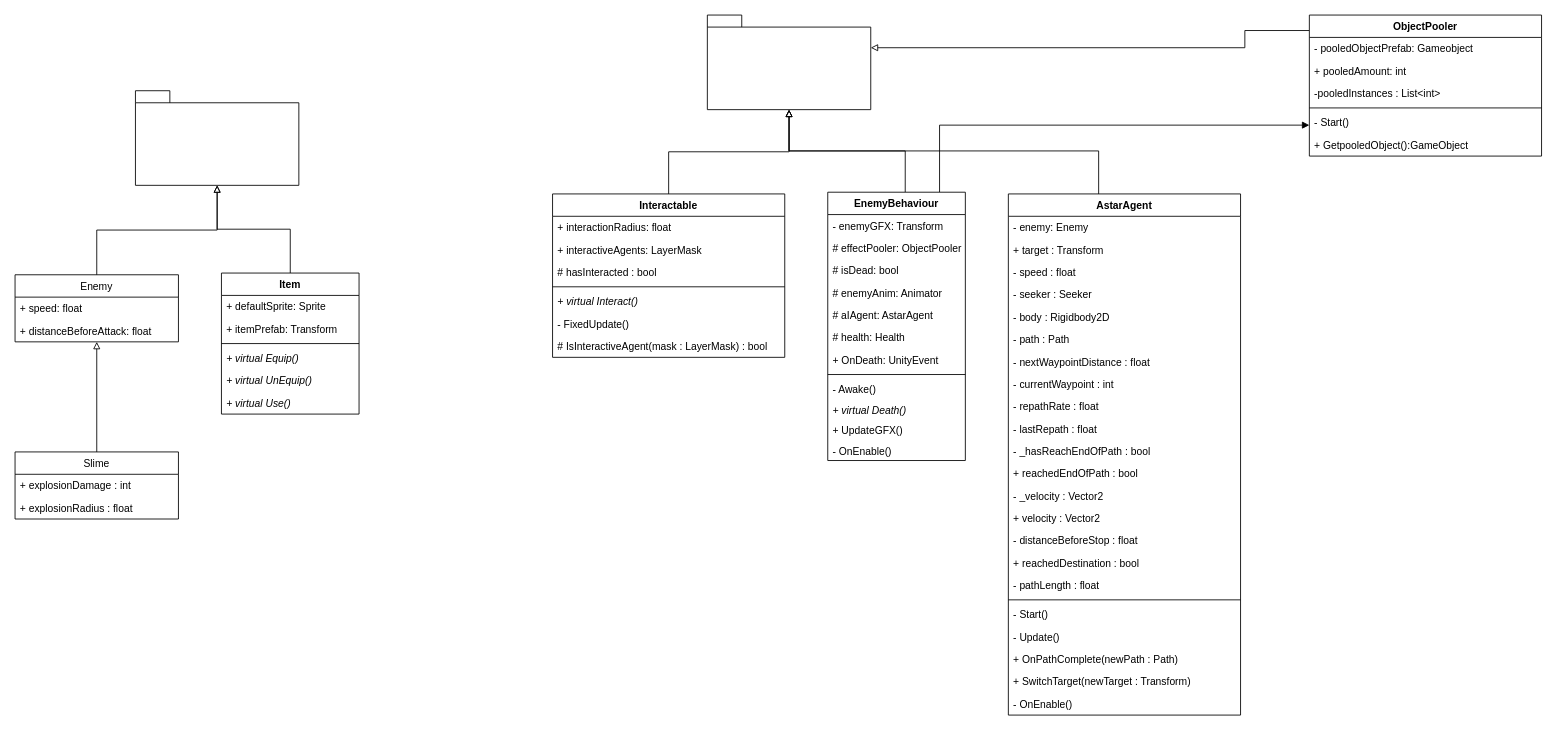
Some shapes in this 1557 by 733 pixel diagram are drawn without their labels. Each missing label, with the centre of its shape:
UnityEngine.MonoBehaviour: [788,62]
UnityEngine.ScriptableObject: [217,137]
